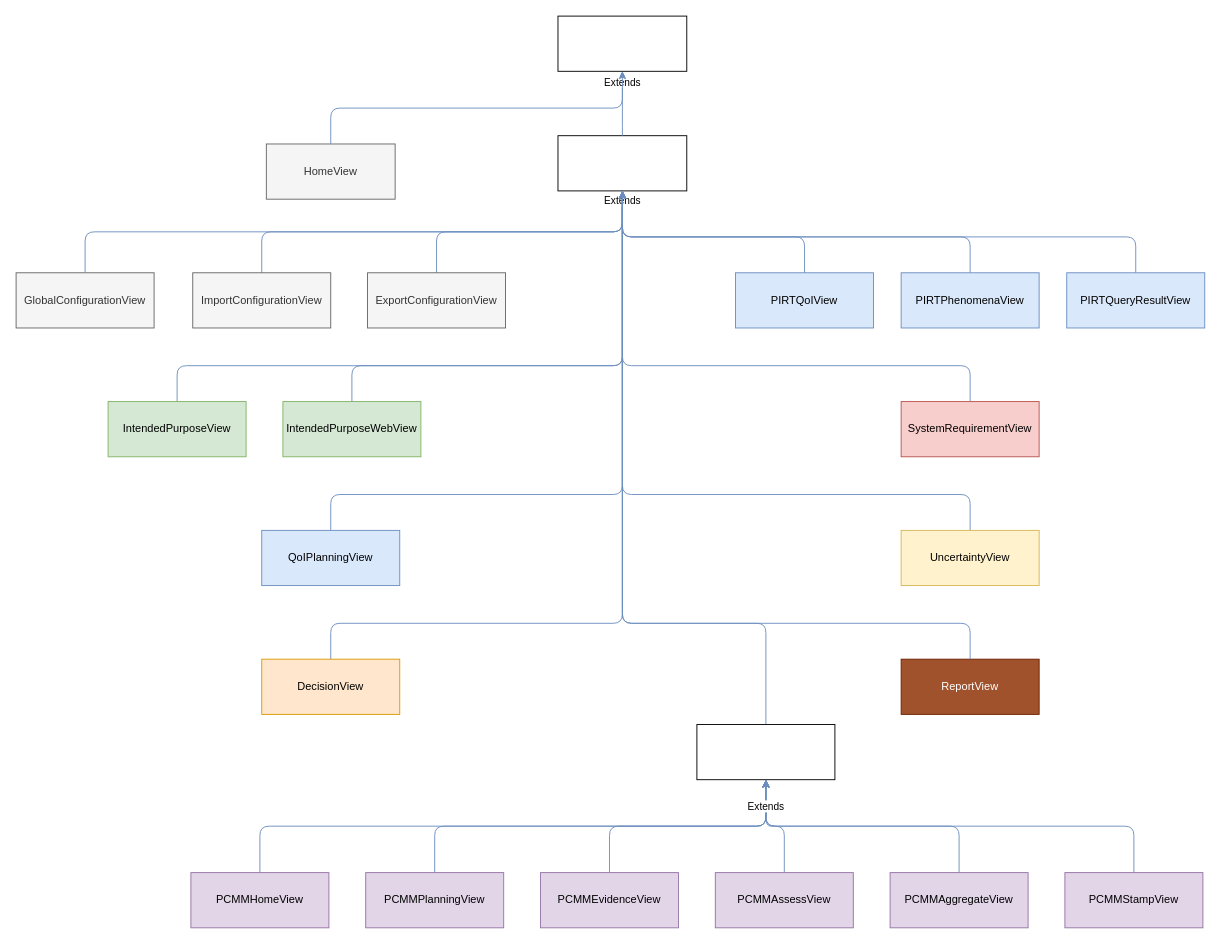
This 1221x944 diagram has some shape labels left out. The shapes that lost their labels are listed below. From the top down, each one's centre as x and y in pixels, then its label:
the point at 622,43: ACredibilityView
the point at 622,163: ACredibilitySubView
the point at 765,752: ACredibilityPCMMView
